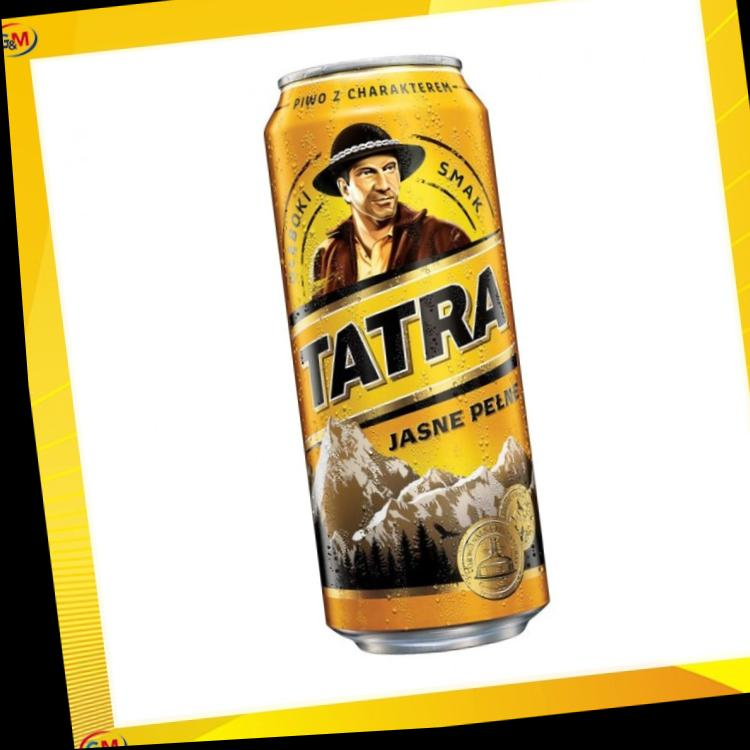metal: (263, 54, 550, 654), (264, 105, 549, 632)
